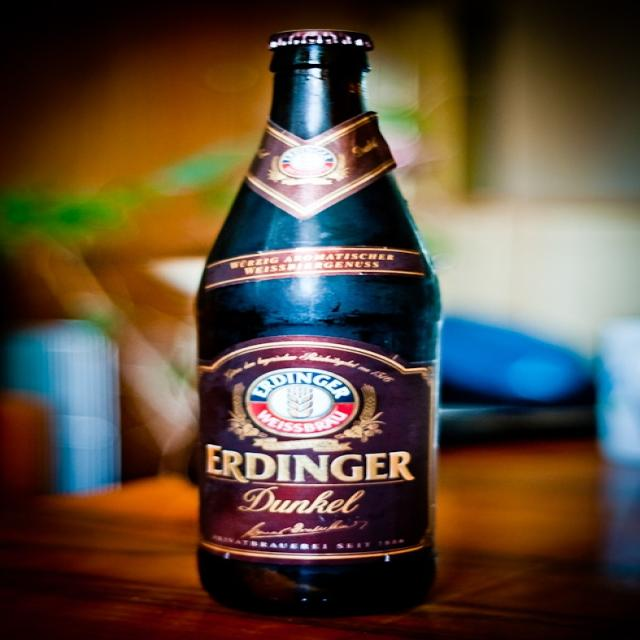erdinger: (195, 345, 425, 492), (261, 143, 353, 189)
